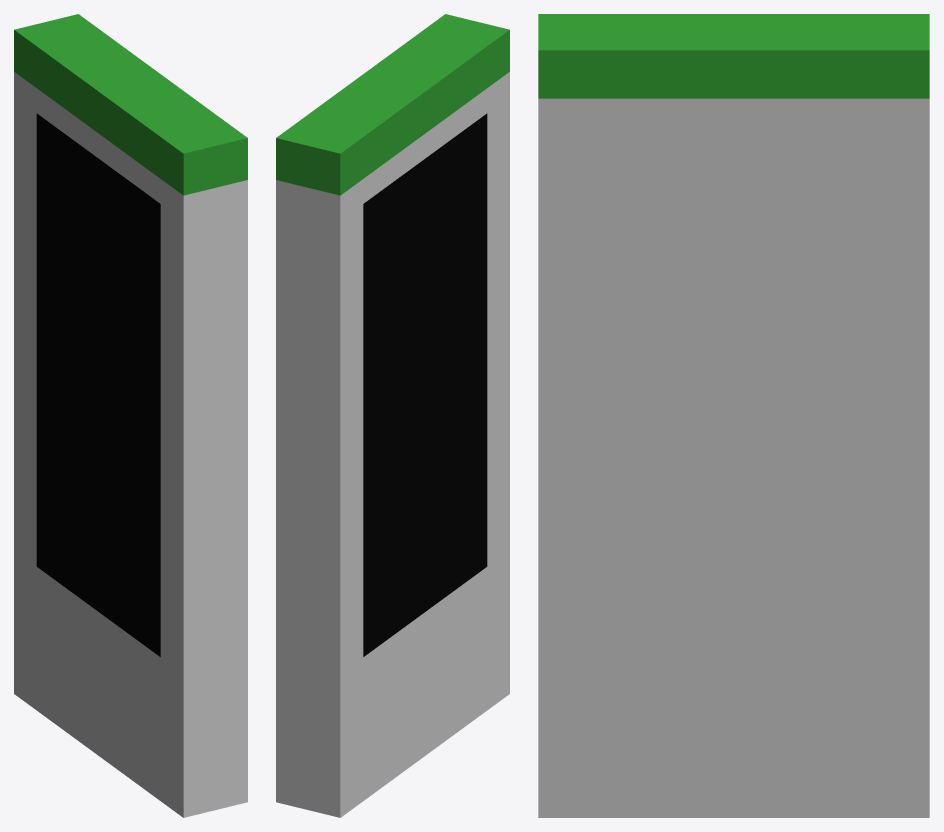
The model's file is board.fbx.
The picture shows the model from 3 angles, left to right: view 1: azimuth 30°, elevation 25°; view 2: azimuth 150°, elevation 25°; view 3: azimuth 270°, elevation 25°; orthographic projection. The views are drawn at different scales.
Parts seen in each view (by area): view 1: Board; view 2: Board; view 3: Board.
Part boxes in pixels (left/top/right/bottom): Board: left=14, top=14, right=247, bottom=817; Board: left=276, top=14, right=509, bottom=817; Board: left=538, top=14, right=929, bottom=817.
Bounding box in the file's own units: 35.13 × 346 × 160.
